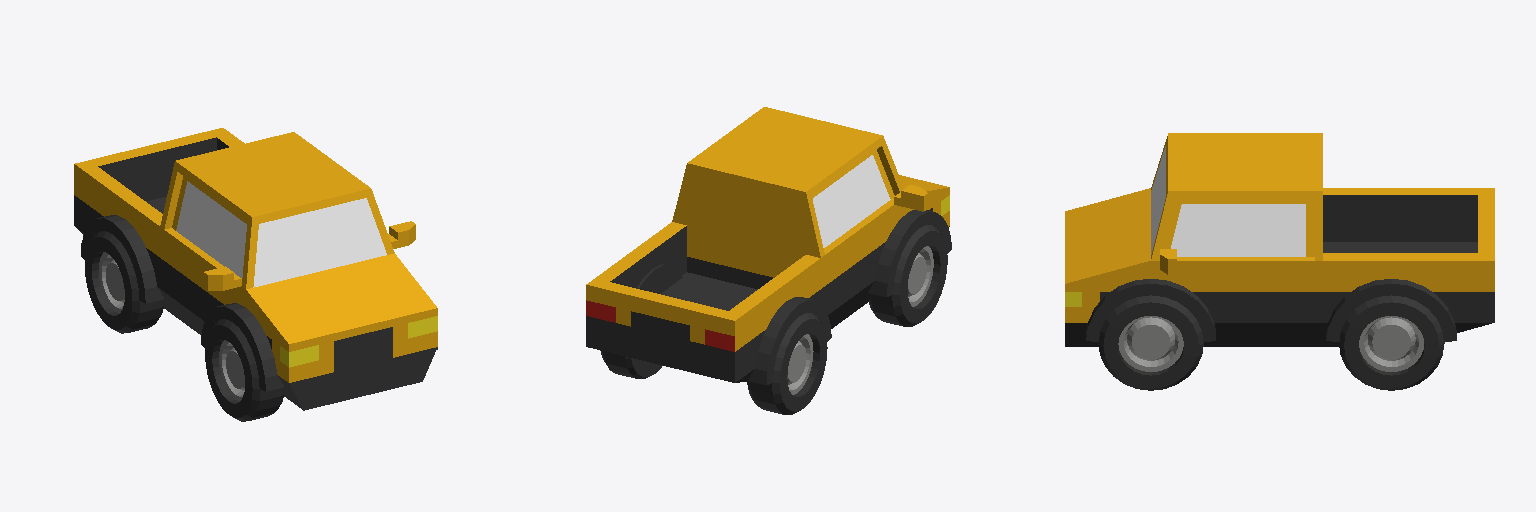
File: pickup_truck_yellow.obj
3 renders of one model, left to right at view 1: azimuth 30°, elevation 25°; view 2: azimuth 150°, elevation 25°; view 3: azimuth 270°, elevation 25°, orthographic.
Parts seen in each view (by area): view 1: mergedBlocks; view 2: mergedBlocks; view 3: mergedBlocks.
Boxes of the visible parts, x1,y1,x2,y2 form: mergedBlocks: [74, 128, 437, 421]; mergedBlocks: [586, 107, 951, 414]; mergedBlocks: [1065, 133, 1494, 390].
Size of the model in its own units: 1.4 by 1.21 by 2.5.